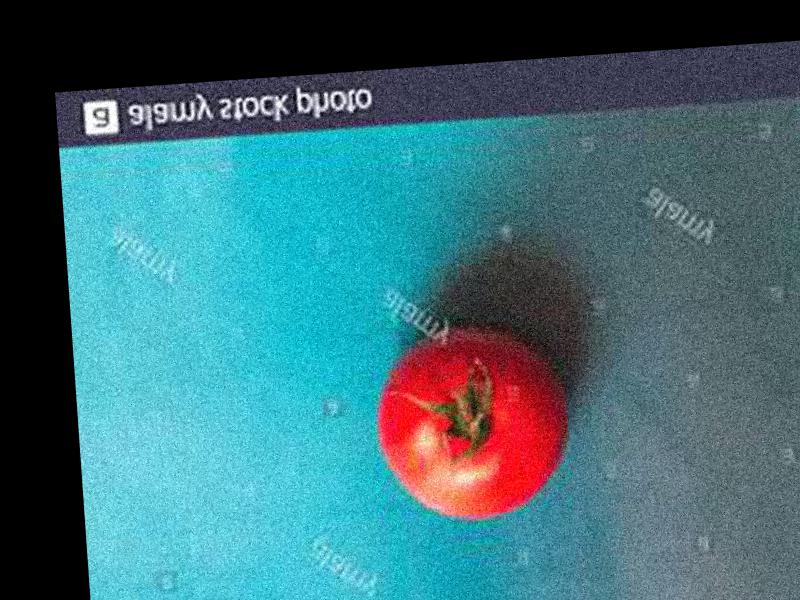Tomato: (372, 320, 571, 526)
